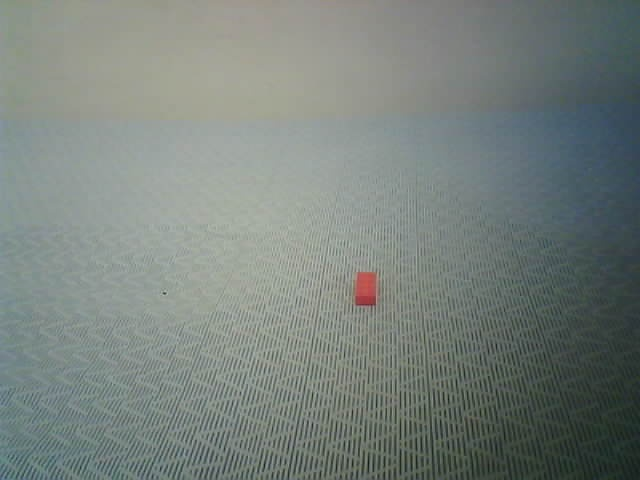lego: (354, 271, 378, 306)
